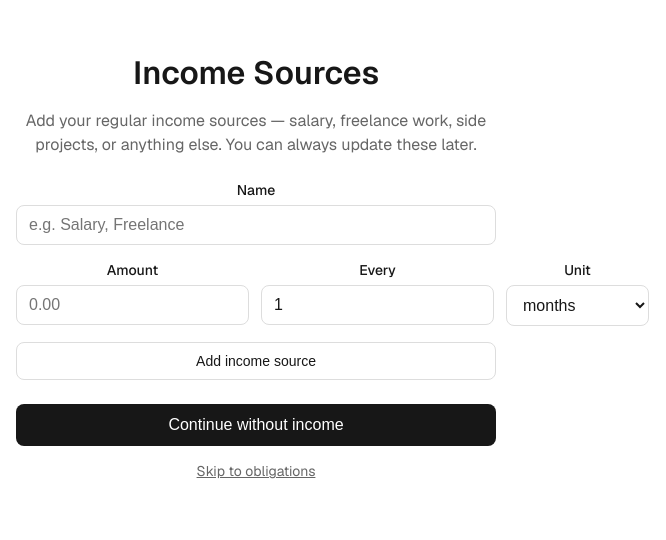
OnboardingManualIncomePage › adds an income entry when the form is submitted with valid data
Step 1. Type "Salary" into the field labelled "Name" → coordinates (256, 225), box [16,205,496,245]
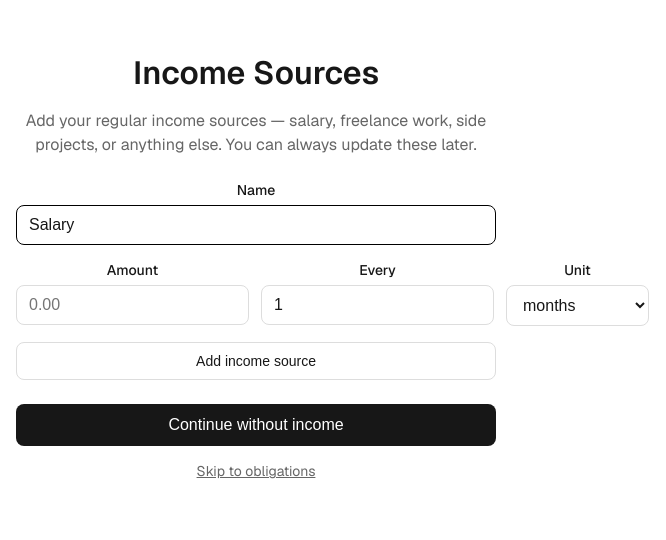
Step 2. Type "5000" into the number field labelled "Amount" → coordinates (132, 305), box [16,285,249,325]
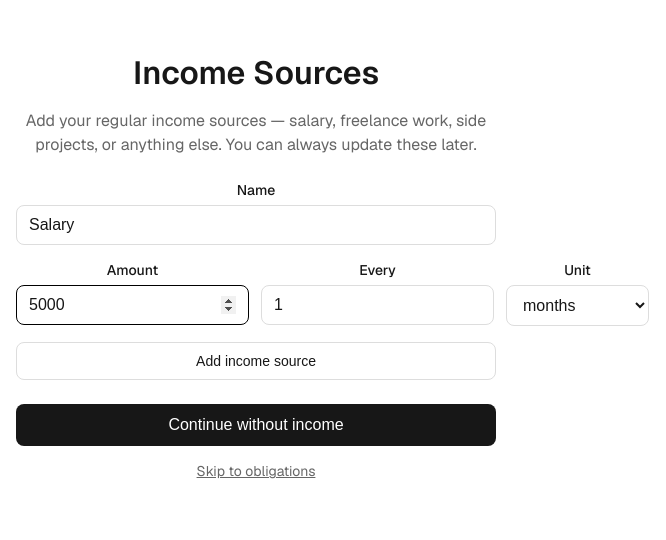
Step 3. Click the button "Add income source" → coordinates (256, 361), box [16,342,496,380]
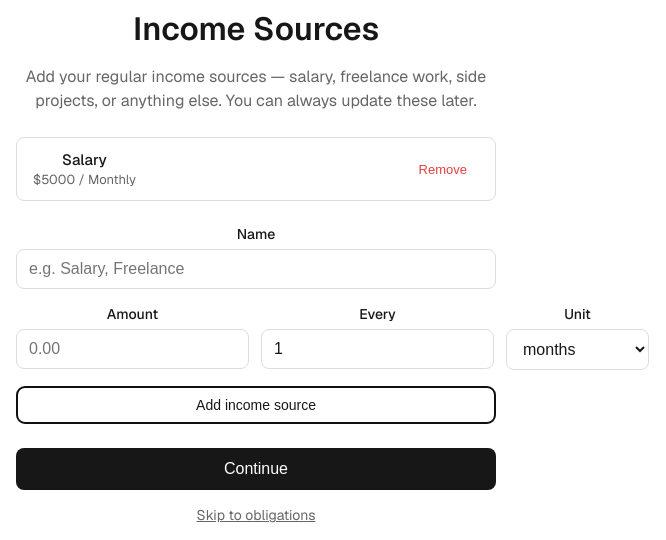
Check: the text "Salary" is shown, box [62,150,107,169]
Check: the text "$5000 / Monthly" is shown, box [33,171,136,188]
